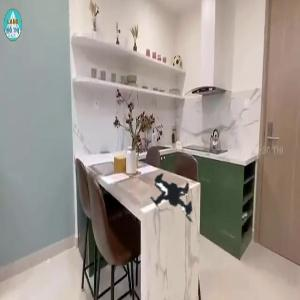drone: (93, 140, 237, 284)
